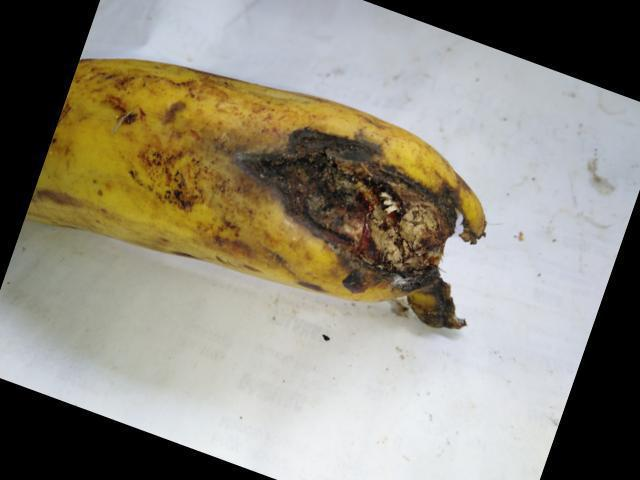ripe: (22, 49, 271, 278)
rotten: (232, 101, 511, 332)
